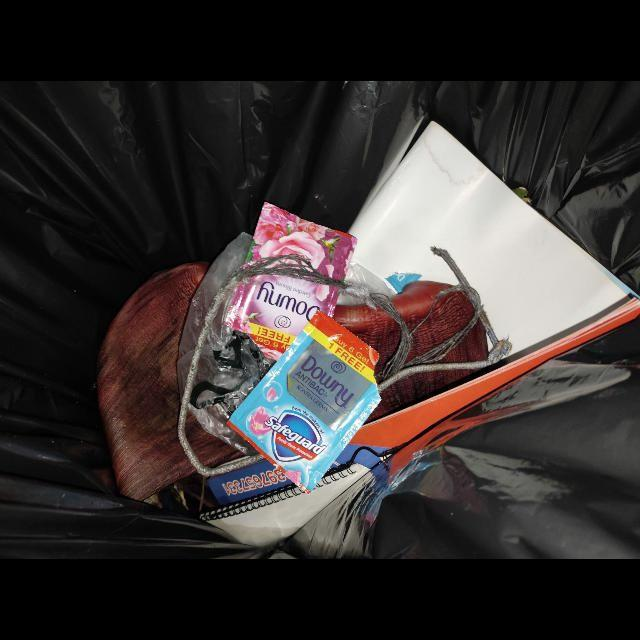cardboard: (348, 86, 639, 449), (196, 449, 393, 550)
plastic_bag: (176, 230, 275, 455)
plastic_sachet: (228, 310, 382, 497), (234, 200, 357, 362)
